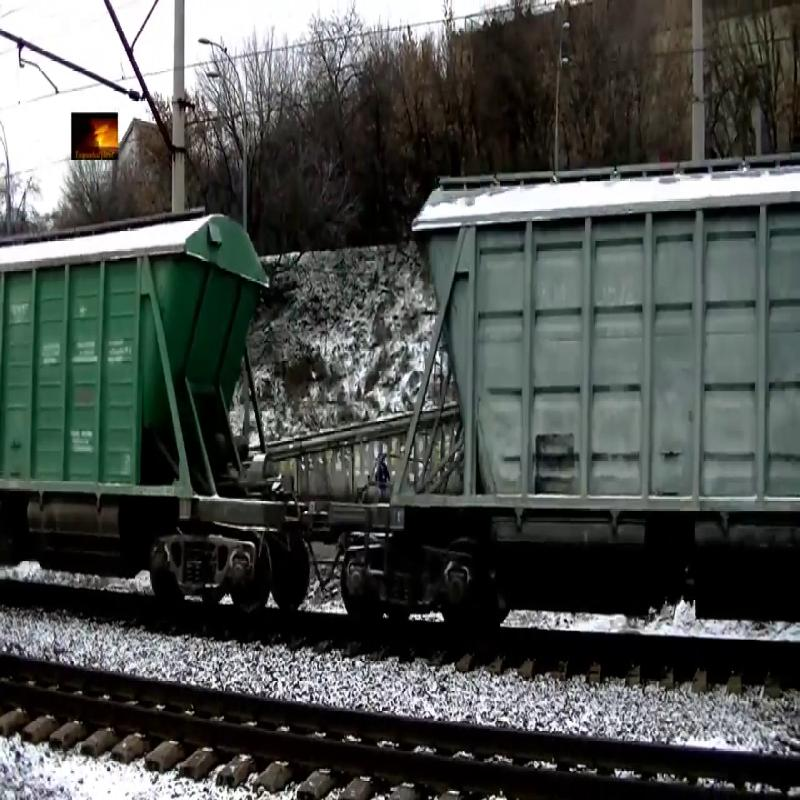train: (389, 142, 800, 572), (3, 200, 275, 555)
